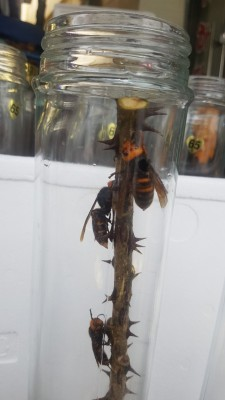asian_giant_hornet: (112, 135, 164, 209), (79, 177, 121, 250), (87, 310, 116, 369)
